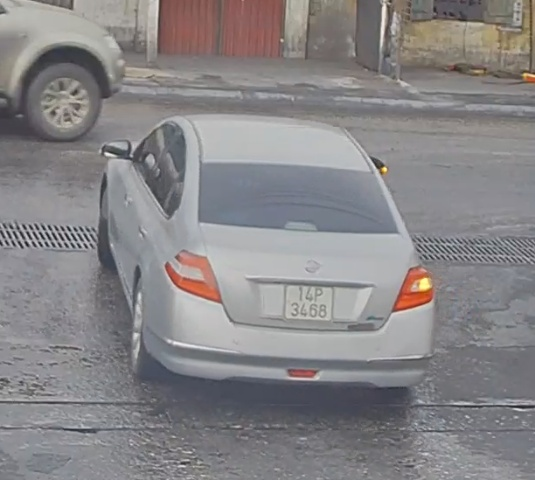vehicle plate: (283, 278, 335, 325)
